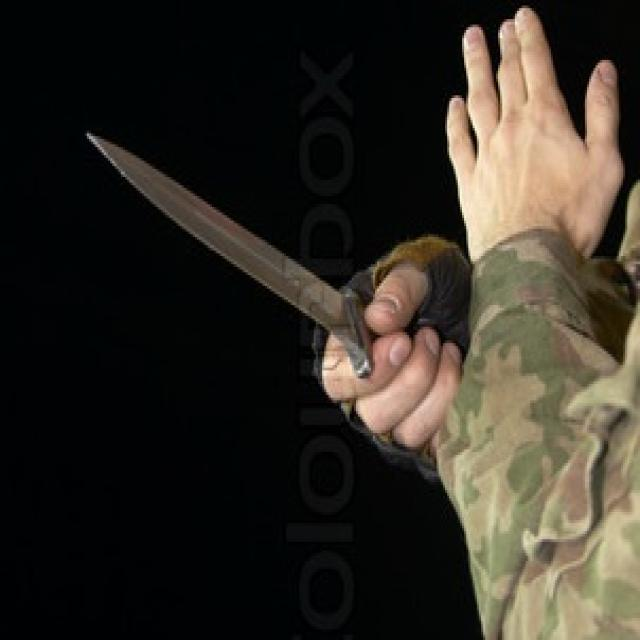knife: (83, 128, 374, 377)
